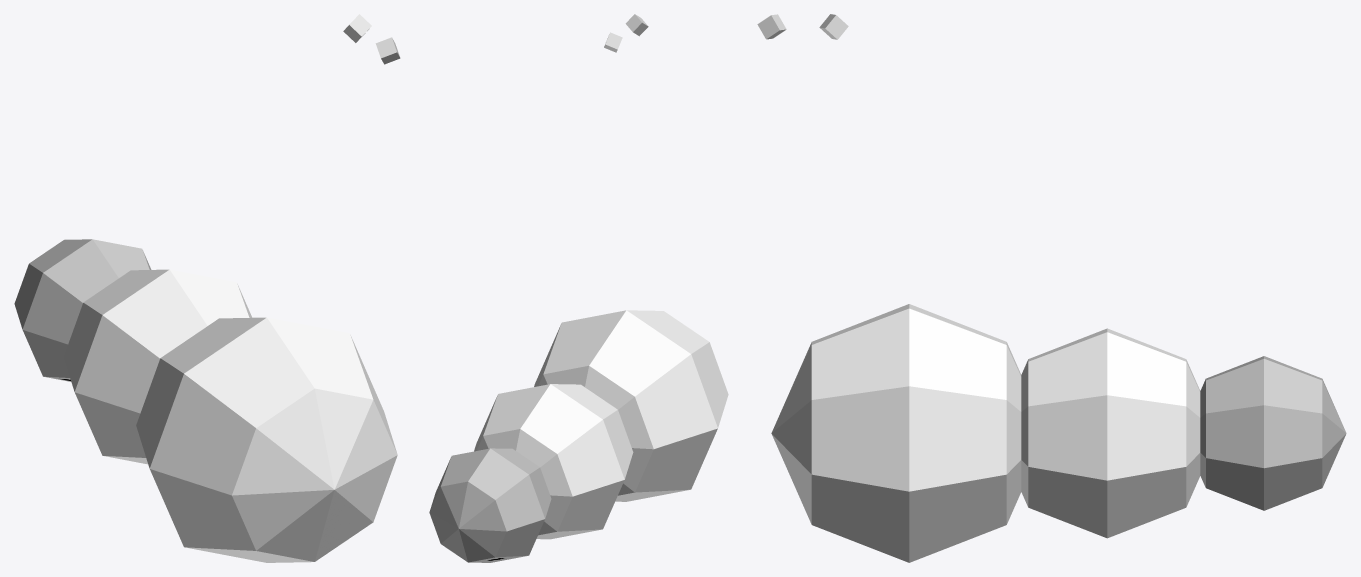
The model's file is snowman.gltf.
3 views of the same model, side by side, from view 1: azimuth 30°, elevation 25°; view 2: azimuth 150°, elevation 25°; view 3: azimuth 270°, elevation 25° (orthographic). The views are drawn at different scales.
Parts seen in each view (by area): view 1: Sphere, Sphere.001, Sphere.002; view 2: Sphere, Sphere.001, Sphere.002; view 3: Sphere, Sphere.001, Sphere.002.
Part boxes in pixels (x1,y1,x2,y2): Sphere: [136, 317, 397, 562]; Sphere.001: [63, 269, 251, 464]; Sphere.002: [14, 239, 151, 381]; Sphere: [534, 310, 728, 501]; Sphere.001: [474, 384, 633, 539]; Sphere.002: [429, 448, 551, 562]; Sphere: [771, 304, 1021, 562]; Sphere.001: [1021, 328, 1200, 538]; Sphere.002: [1200, 356, 1346, 510].
Bounding box in the file's own units: 2 × 4.57 × 4.27.
3 materials, 1 textured.
